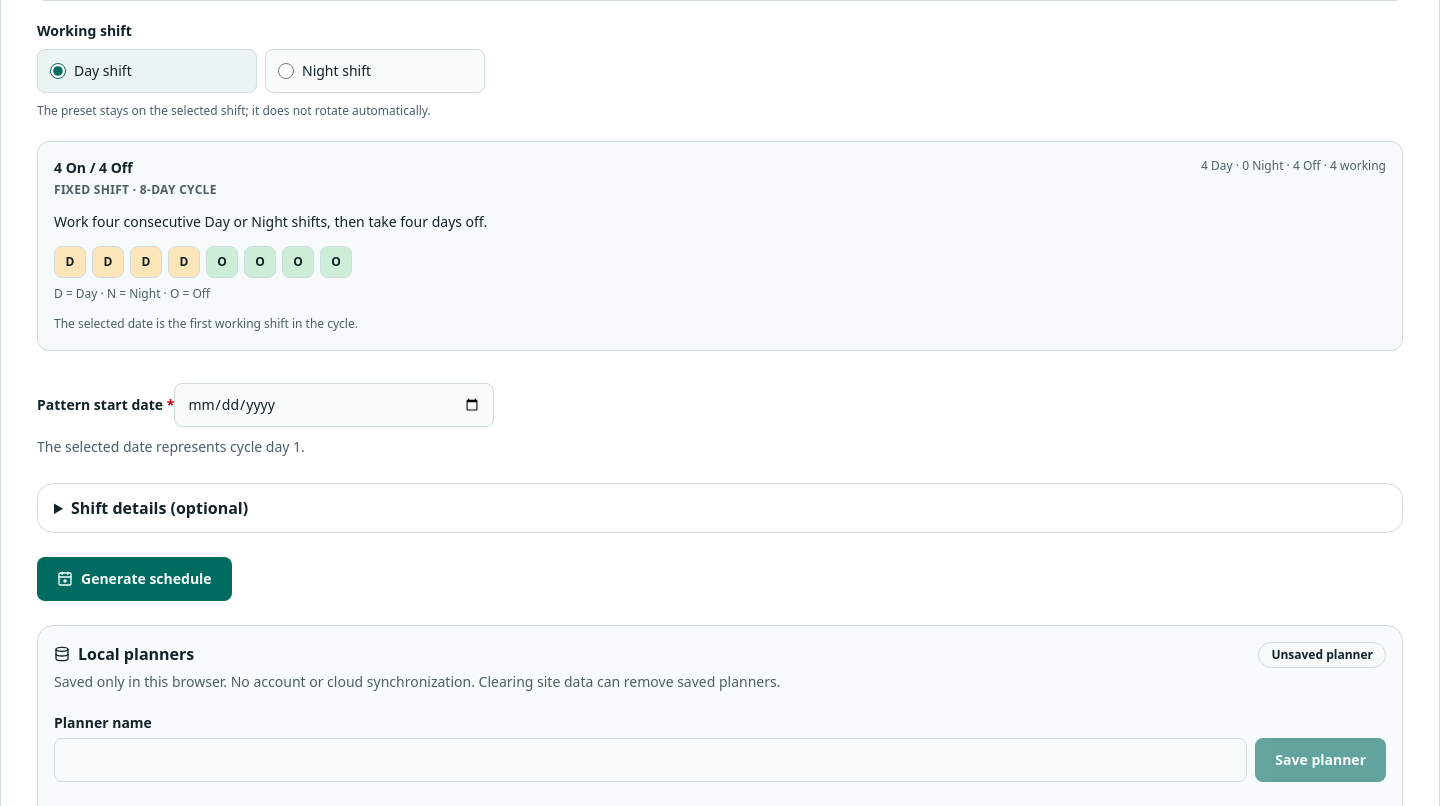
Test: monthly generation › generates the preset month, summary, cells, and canonical query
(page scrolled)
Type "2026-10-01" into the date field labelled "Pattern start date *" at (334, 405), box [174, 383, 494, 427]
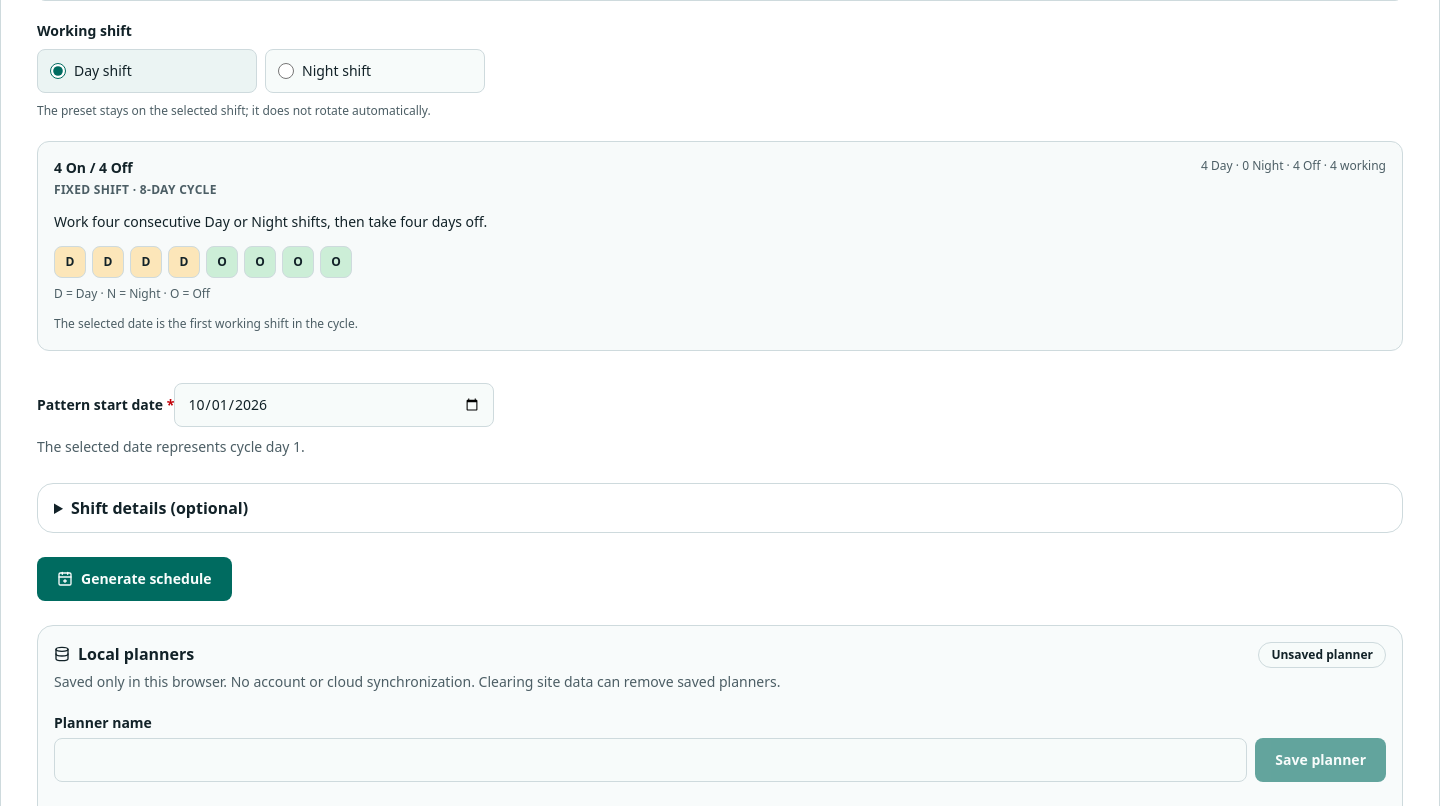
Click the button "Generate schedule" at (134, 579), box [37, 557, 232, 601]
(page scrolled)
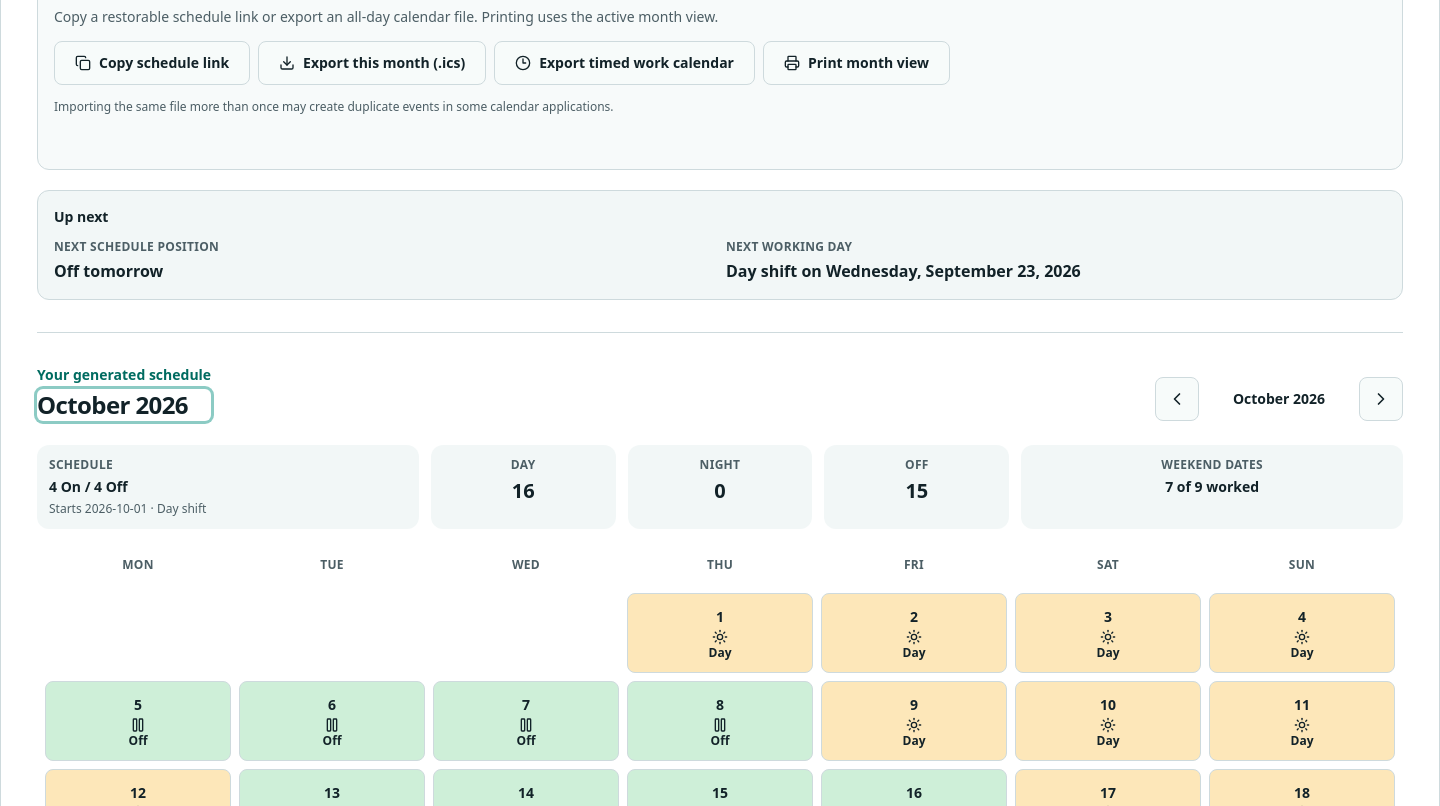
expect the cell named "thursday, october 1, 2026 — day shift" is shown: met, box [627, 593, 813, 673]
expect the cell named "monday, october 5, 2026 — off" is shown: met, box [45, 681, 231, 761]
expect the text "16" in the row of "· Day shift" is shown: met, box [512, 477, 535, 504]
